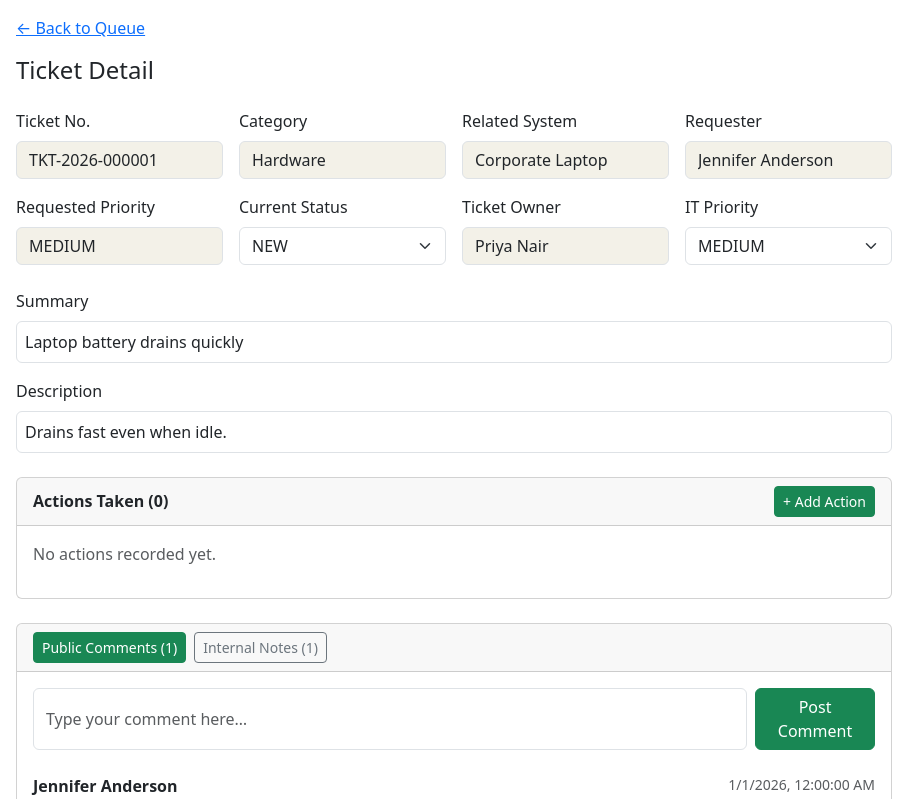
Scenario: StaffTicketDetail › distinguishes Internal Notes from Public Comments via separate tabs
Expected: the text "Internal escalation note" is not shown
Click the button "Internal Notes (1)". click: [261, 647]
box: x1=194 y1=632 x2=327 y2=663
(page scrolled)
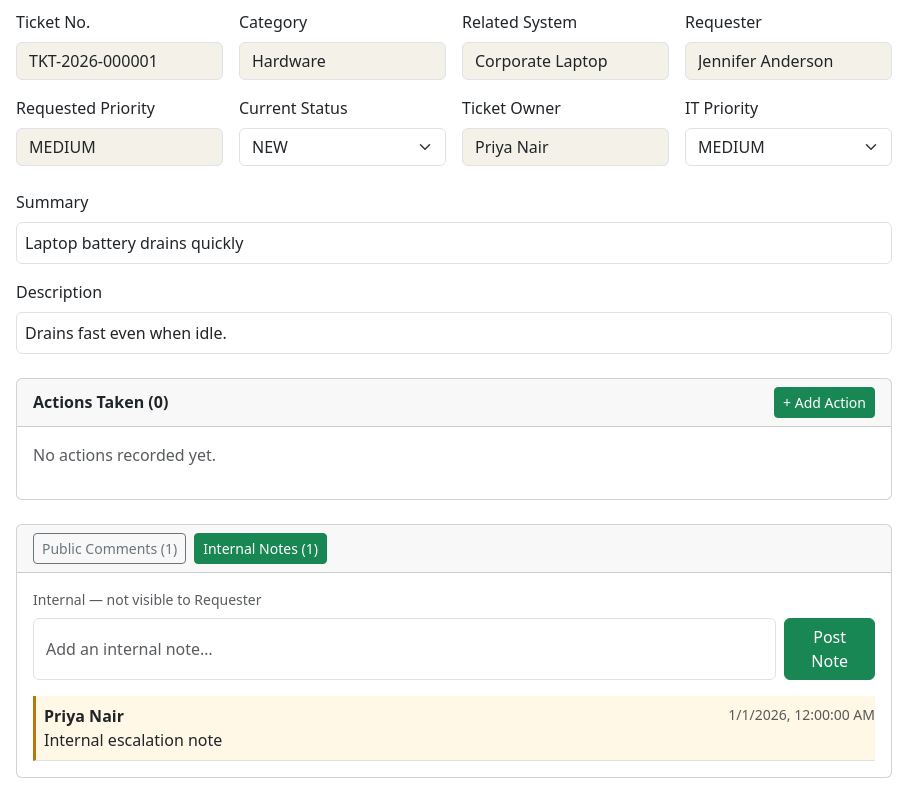
Expected: the text "Public update" is not shown
Expected: the text "Internal escalation note" is shown, x1=44 y1=729 x2=222 y2=751
